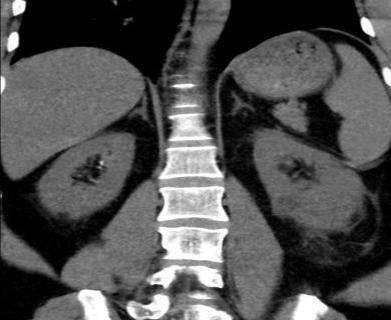Tas_Var: (98, 159, 105, 167)
